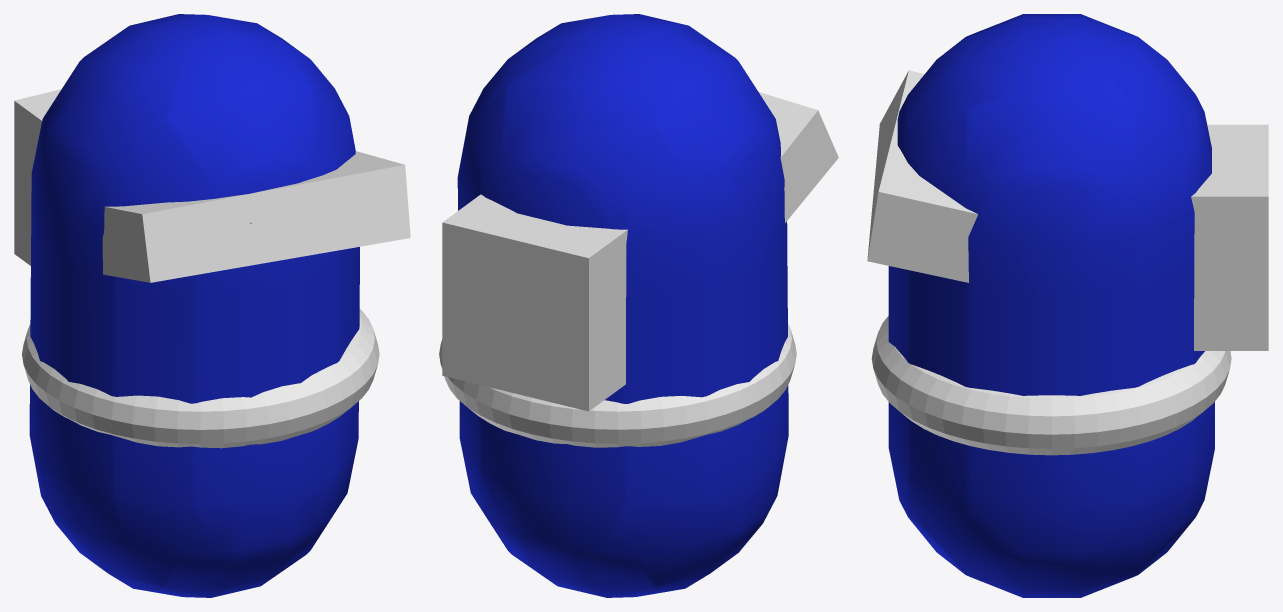
File: Player.fbx
3 views of the same model, side by side, from view 1: azimuth 30°, elevation 25°; view 2: azimuth 150°, elevation 25°; view 3: azimuth 270°, elevation 25° (orthographic).
Visible parts, largest first — view 1: Mbola, Cubo, Rosca, Cubo.001; view 2: Mbola, Cubo.001, Rosca, Cubo; view 3: Mbola, Rosca, Cubo.001, Cubo.
Boxes of the visible parts, x1,y1,x2,y2 form: Mbola: [29, 14, 359, 597]; Cubo: [102, 151, 410, 282]; Rosca: [22, 309, 379, 448]; Cubo.001: [14, 89, 61, 265]; Mbola: [457, 14, 788, 597]; Cubo.001: [442, 194, 627, 411]; Rosca: [439, 323, 796, 447]; Cubo: [759, 92, 838, 222]; Mbola: [888, 14, 1214, 597]; Rosca: [871, 316, 1231, 455]; Cubo.001: [1191, 124, 1268, 350]; Cubo: [867, 70, 977, 282].
Size of the model in its own units: 250 by 423 by 279.
